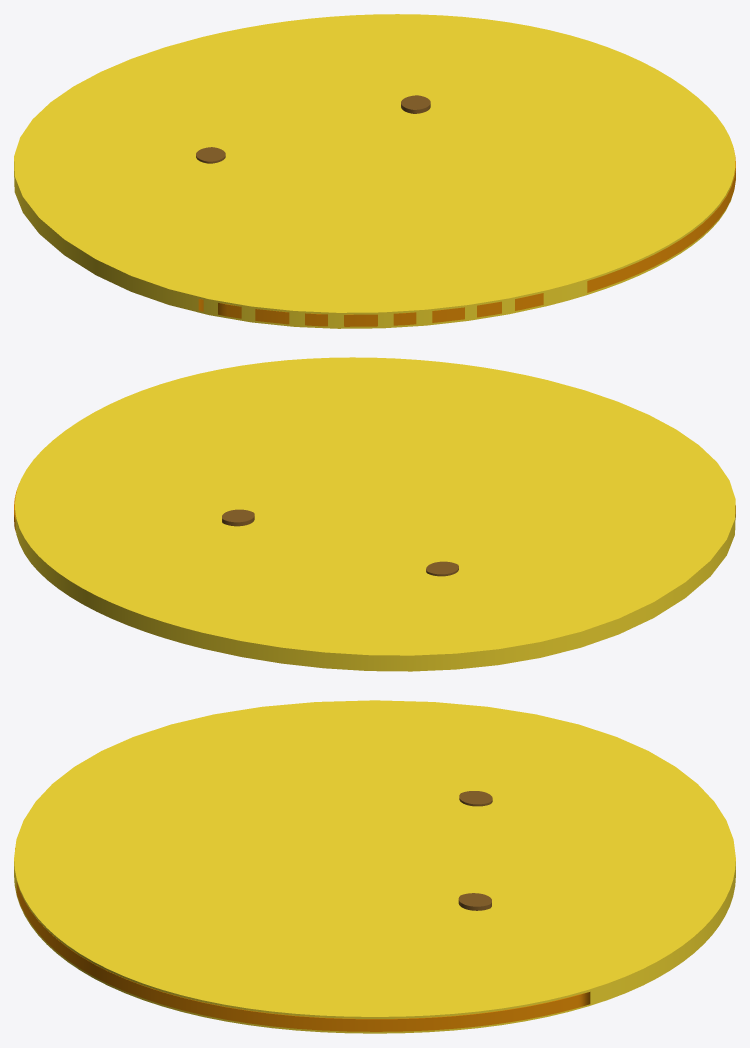
The model's file is emoji_u1f617.glb.
The picture shows the model from 3 angles, top to bottom: view 1: azimuth 30°, elevation 25°; view 2: azimuth 150°, elevation 25°; view 3: azimuth 270°, elevation 25°; orthographic projection. The views are drawn at different scales.
Visible parts, largest first — view 1: emoji_u1f617; view 2: emoji_u1f617; view 3: emoji_u1f617.
Boxes of the visible parts, <box> form: emoji_u1f617: <box>14,14,735,328</box>; emoji_u1f617: <box>14,357,735,671</box>; emoji_u1f617: <box>14,700,735,1033</box>.
Bounding box in the file's own units: 0.0327 × 0.0012 × 0.0315.
